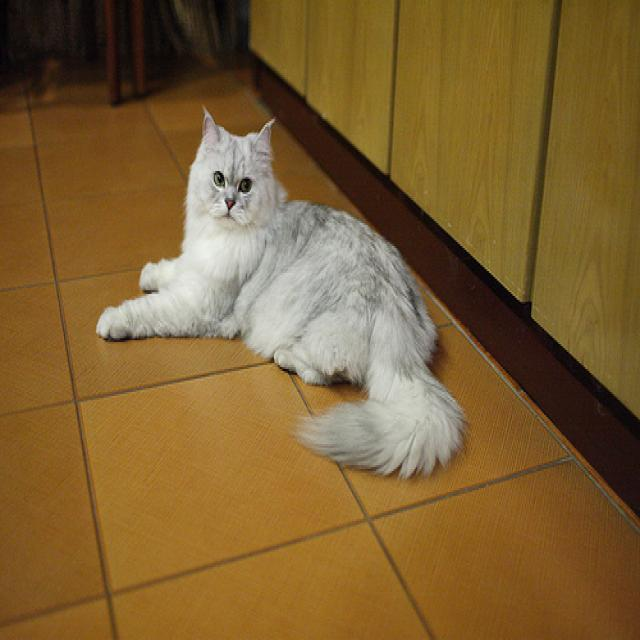cat: (197, 102, 274, 227)
